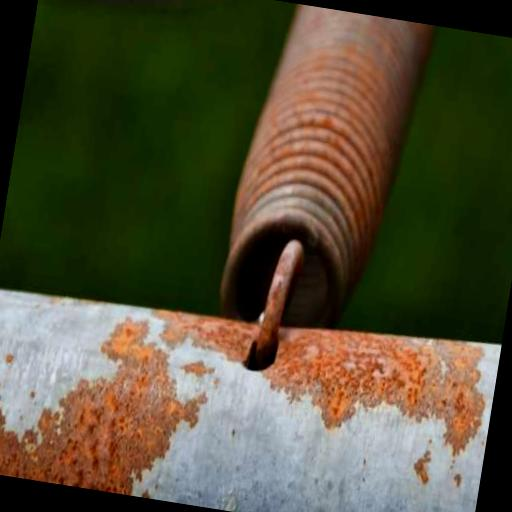corrosion: (0, 312, 219, 512), (258, 312, 493, 455), (154, 309, 248, 359)
